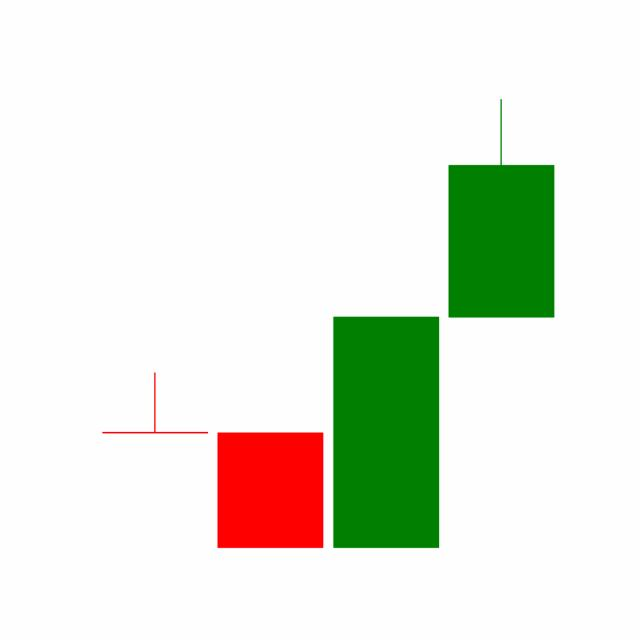Marubozu: (328, 314, 444, 550)
